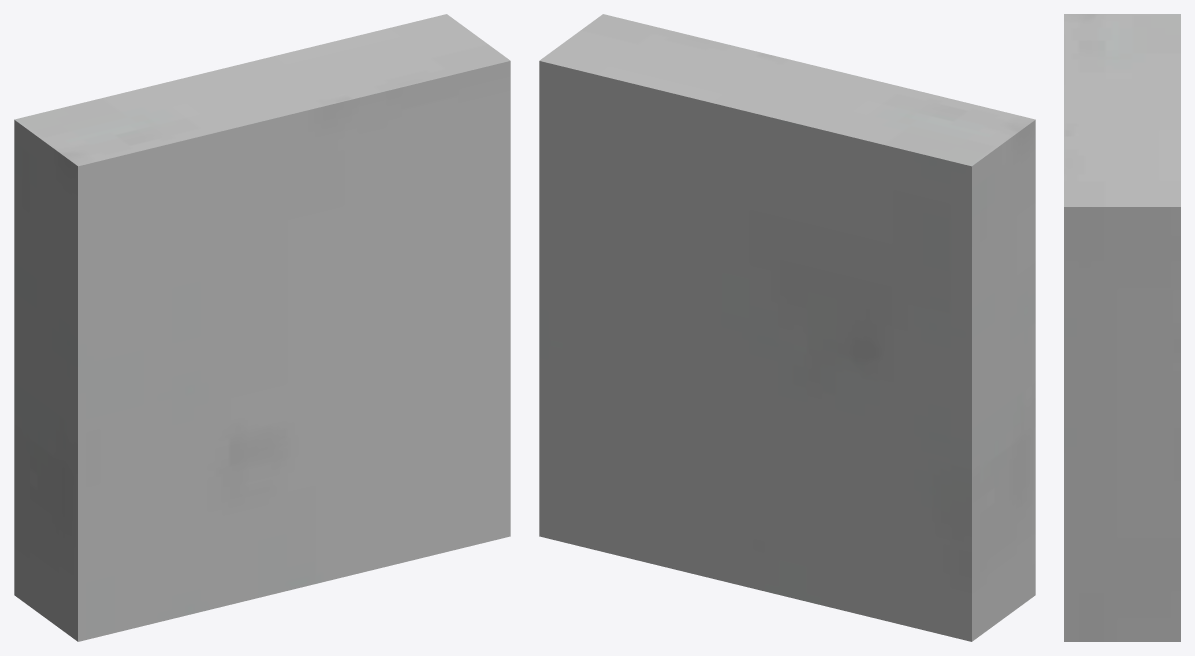
File: flap_1__rib_0.glb
The picture shows the model from 3 angles, left to right: view 1: azimuth 30°, elevation 25°; view 2: azimuth 150°, elevation 25°; view 3: azimuth 270°, elevation 25°; orthographic projection. The views are drawn at different scales.
Visible parts, largest first — view 1: geometry_0; view 2: geometry_0; view 3: geometry_0.
Boxes of the visible parts, x1=… form: geometry_0: x1=14, y1=14, x2=510, y2=641; geometry_0: x1=539, y1=14, x2=1035, y2=641; geometry_0: x1=1064, y1=14, x2=1180, y2=641.
Size of the model in its own units: 0.0381 by 0.04 by 0.00975.
1 material, 1 textured.
